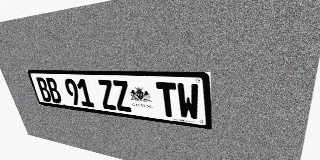1: (75, 79, 94, 107)
9: (63, 78, 82, 106)
B: (45, 77, 63, 103), (35, 77, 53, 102)
T: (156, 82, 179, 118)
W: (176, 83, 200, 121)
Z: (111, 80, 133, 112), (97, 80, 117, 110)
